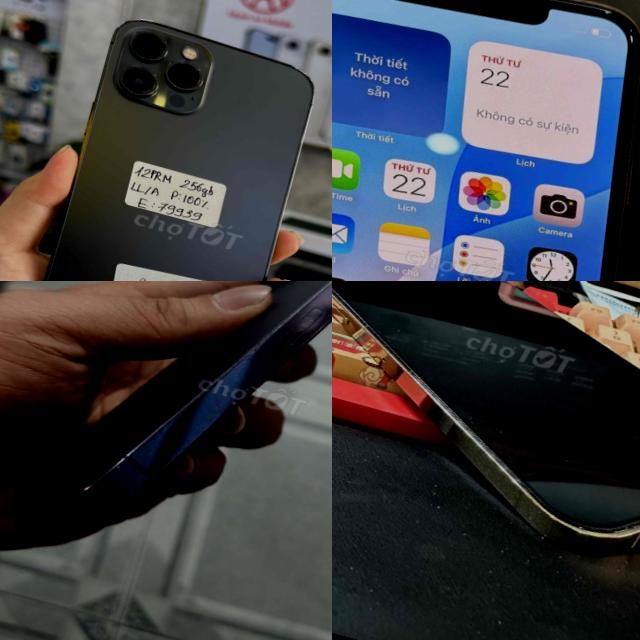gen_11: (332, 0, 640, 281)
gen_12_13: (332, 281, 640, 586), (20, 7, 329, 281)
gen_14: (30, 281, 332, 518)
scratch: (266, 282, 328, 358)
